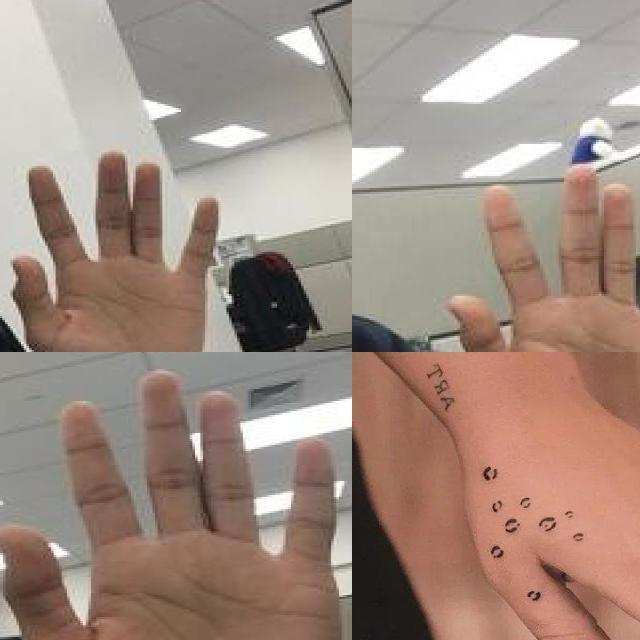hand: (0, 371, 345, 640), (420, 378, 640, 640), (5, 150, 221, 352), (442, 162, 640, 352)
